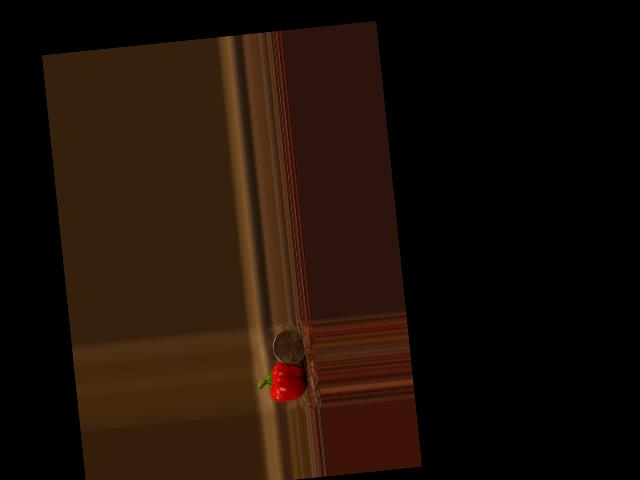bell_pepper: (256, 361, 309, 404)
